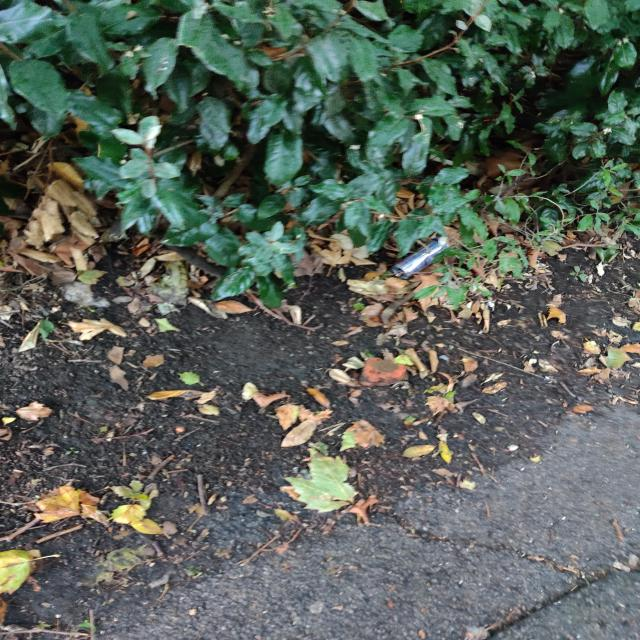litter: (389, 239, 451, 282)
